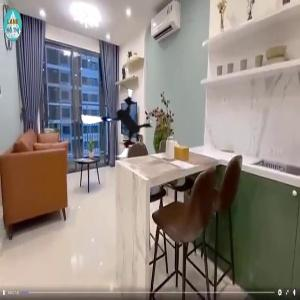drone: (80, 84, 158, 162)
